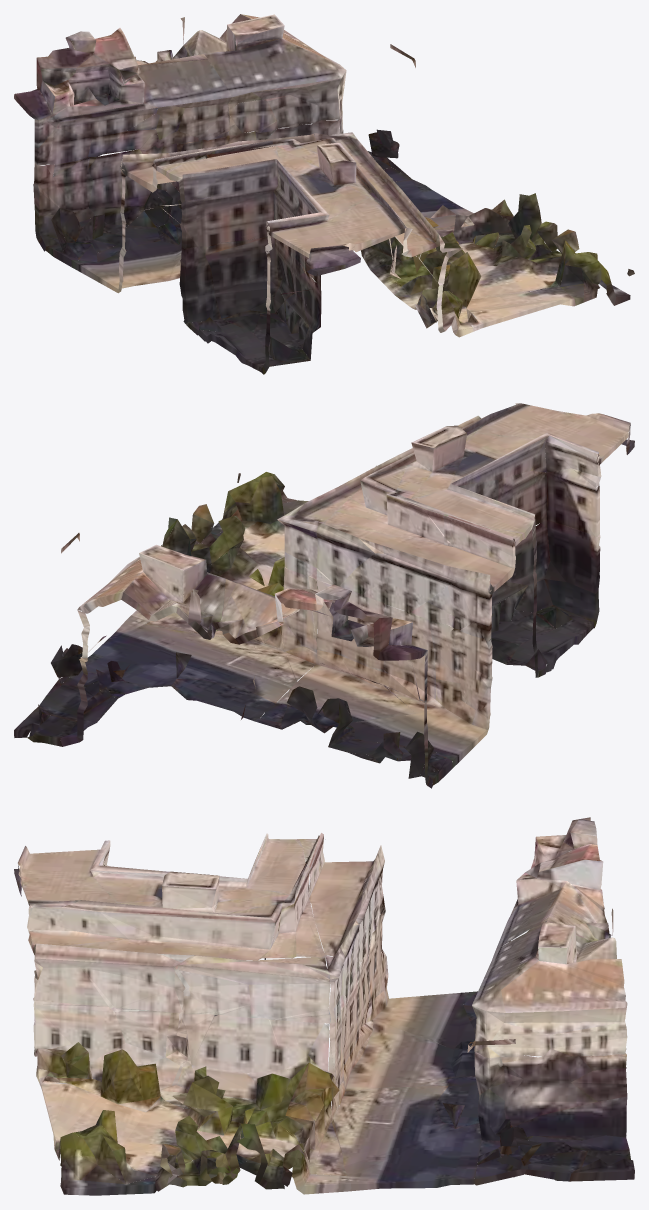
3 renders of one model, top to bottom at view 1: azimuth 30°, elevation 25°; view 2: azimuth 150°, elevation 25°; view 3: azimuth 270°, elevation 25°, orthographic. The views are drawn at different scales.
Visible parts, largest first — view 1: Mesh_0; view 2: Mesh_0; view 3: Mesh_0.
Boxes of the visible parts, <box> form: Mesh_0: <box>14,14,634,374</box>; Mesh_0: <box>14,403,634,788</box>; Mesh_0: <box>14,817,634,1195</box>.
Bounding box in the file's own units: 67.5 × 30.42 × 82.49.
Materials: 2 (2 with a texture image).
